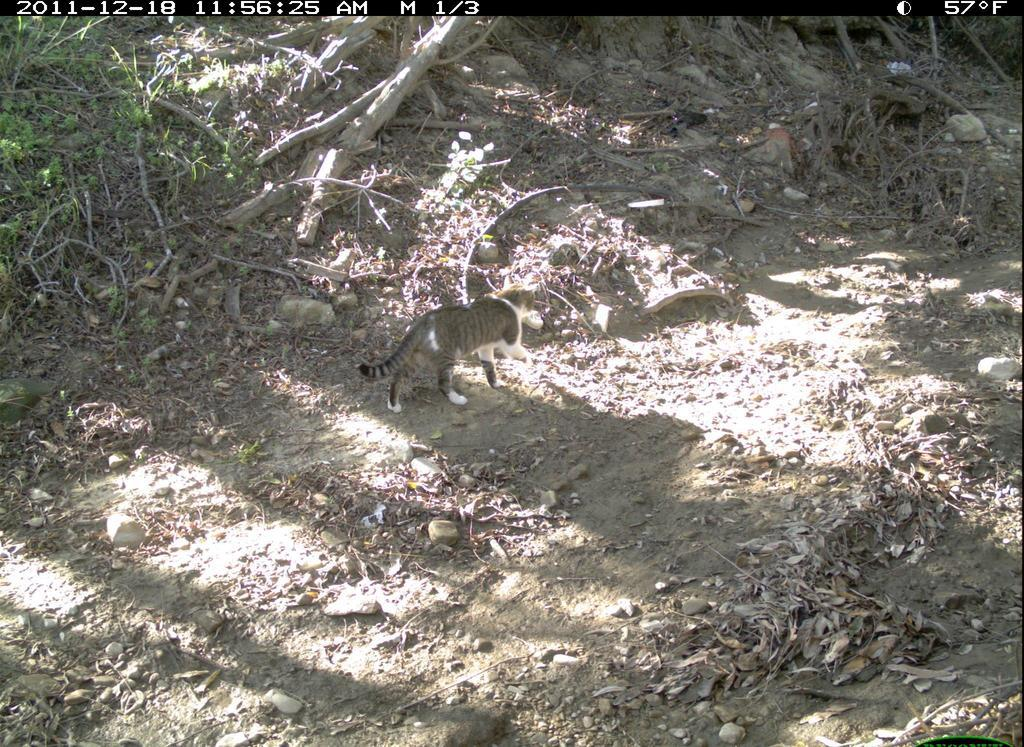cat: (354, 283, 543, 418)
